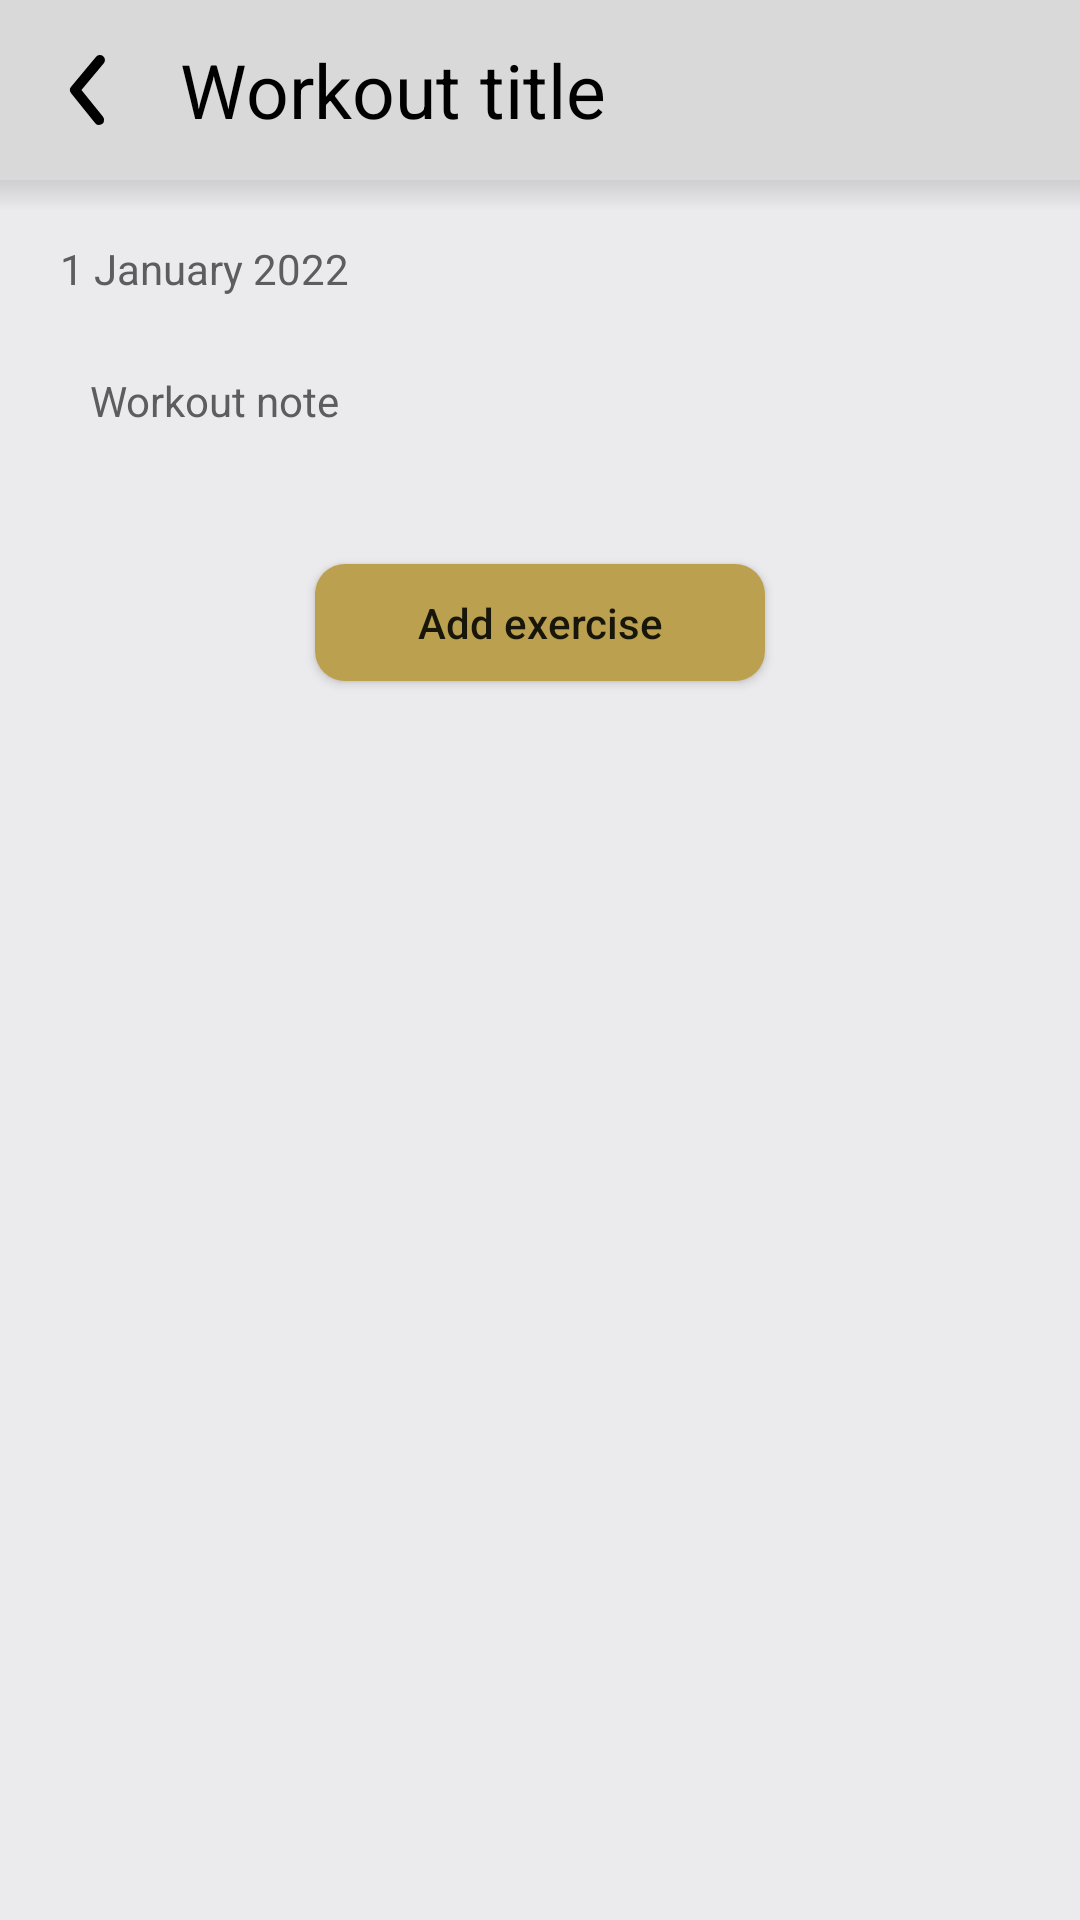

Icons on this 1080×1920 Android screen, each with its box as (x1, y1, x2, y2):
back arrow: (69, 55, 105, 125)
